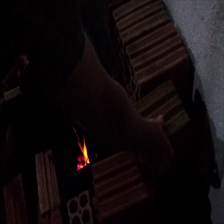fire_l: (77, 136, 90, 170)
